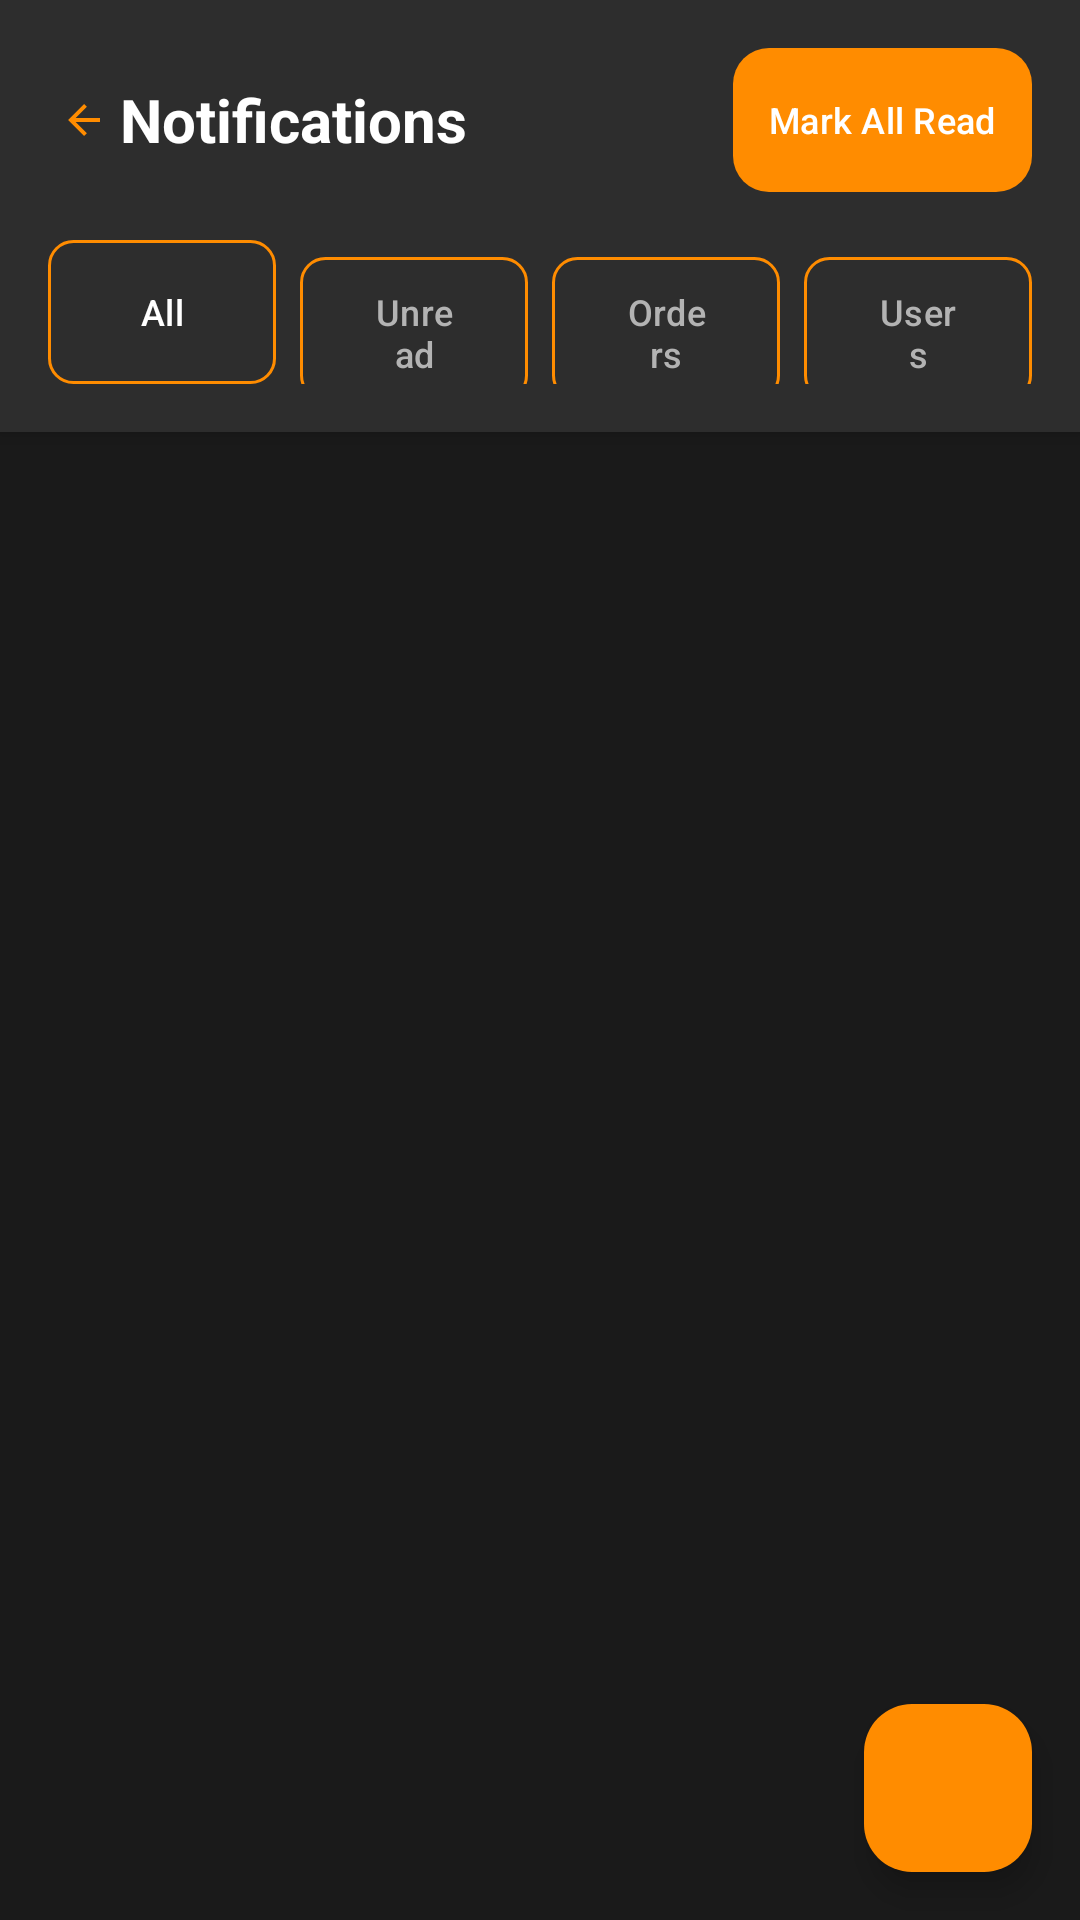

Point at icon controls on the screen. Image size 1080px x 1920px, points as point (x, y).
arrow back: point (84, 120)
